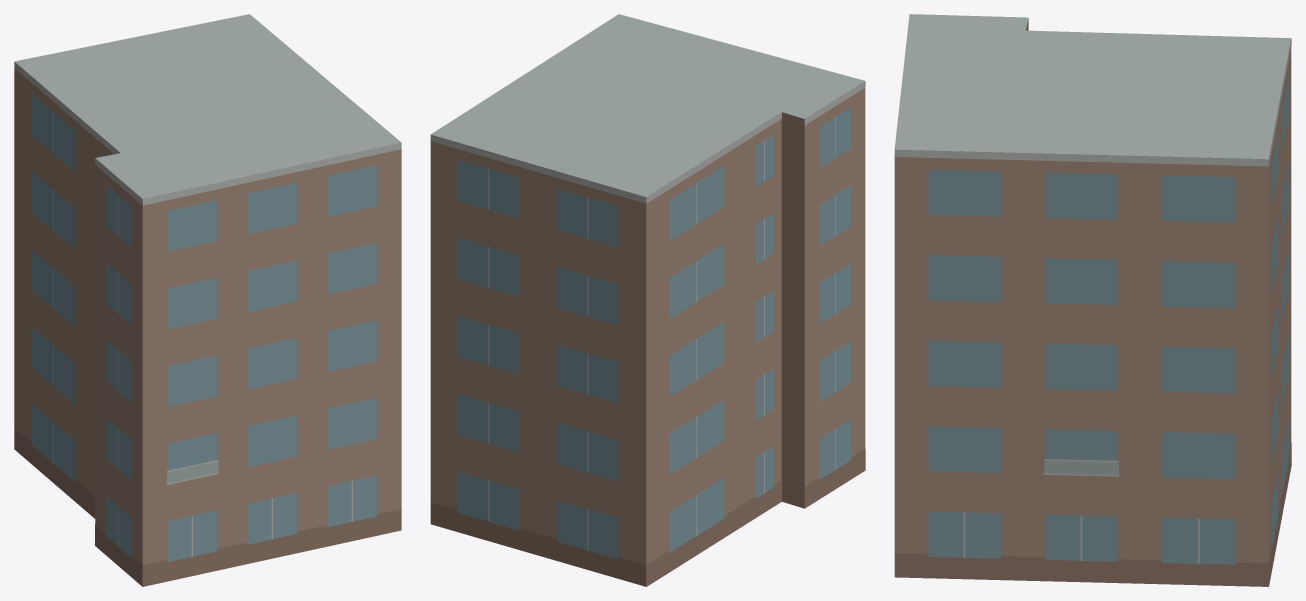
File: survey-upis-32780938.glb
3 views of the same model, side by side, from view 1: azimuth 30°, elevation 25°; view 2: azimuth 150°, elevation 25°; view 3: azimuth 270°, elevation 25° (orthographic). The views are drawn at different scales.
Parts seen in each view (by area): view 1: survey-upis-32780938.tmp; view 2: survey-upis-32780938.tmp; view 3: survey-upis-32780938.tmp.
Boxes of the visible parts, left/top/right/bottom form: survey-upis-32780938.tmp: left=14, top=14, right=401, bottom=586; survey-upis-32780938.tmp: left=430, top=14, right=865, bottom=586; survey-upis-32780938.tmp: left=894, top=14, right=1291, bottom=586.
Size of the model in its own units: 10.42 by 14.3 by 12.04.
